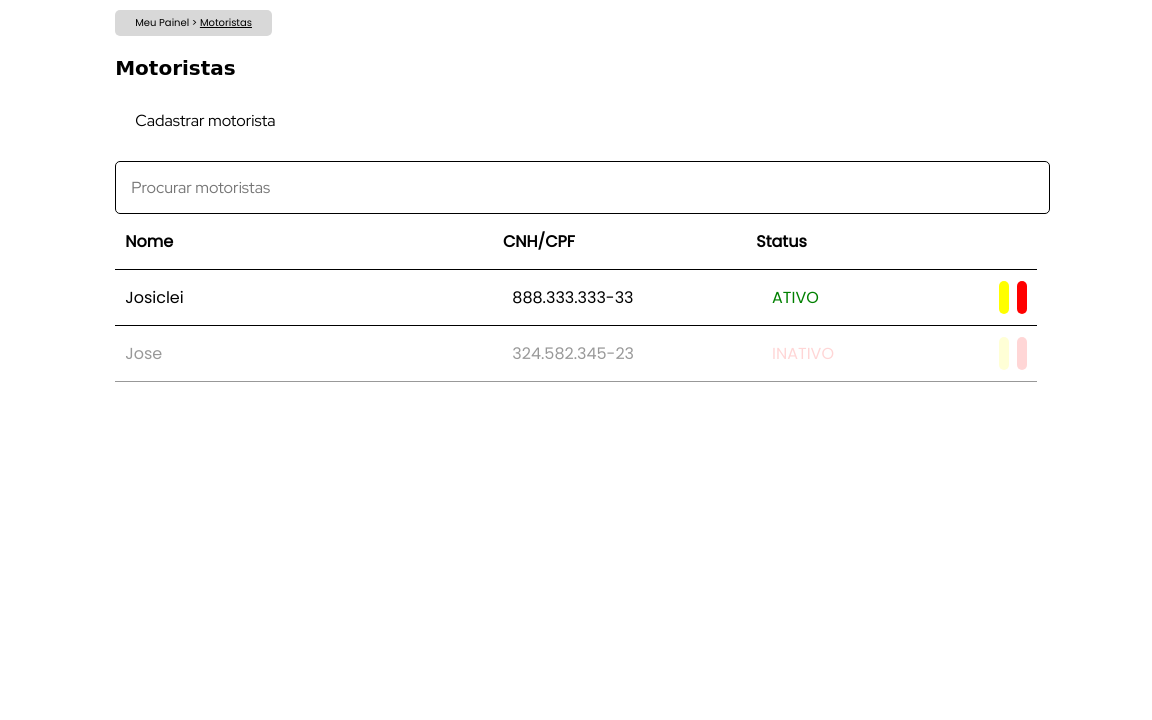
it: Drivers Page › should open DeleteDriverModal when delete button is clicked
Click the 2nd button titled "Deletar Motorista".
click(1022, 298)  # box [1017,285,1027,310]
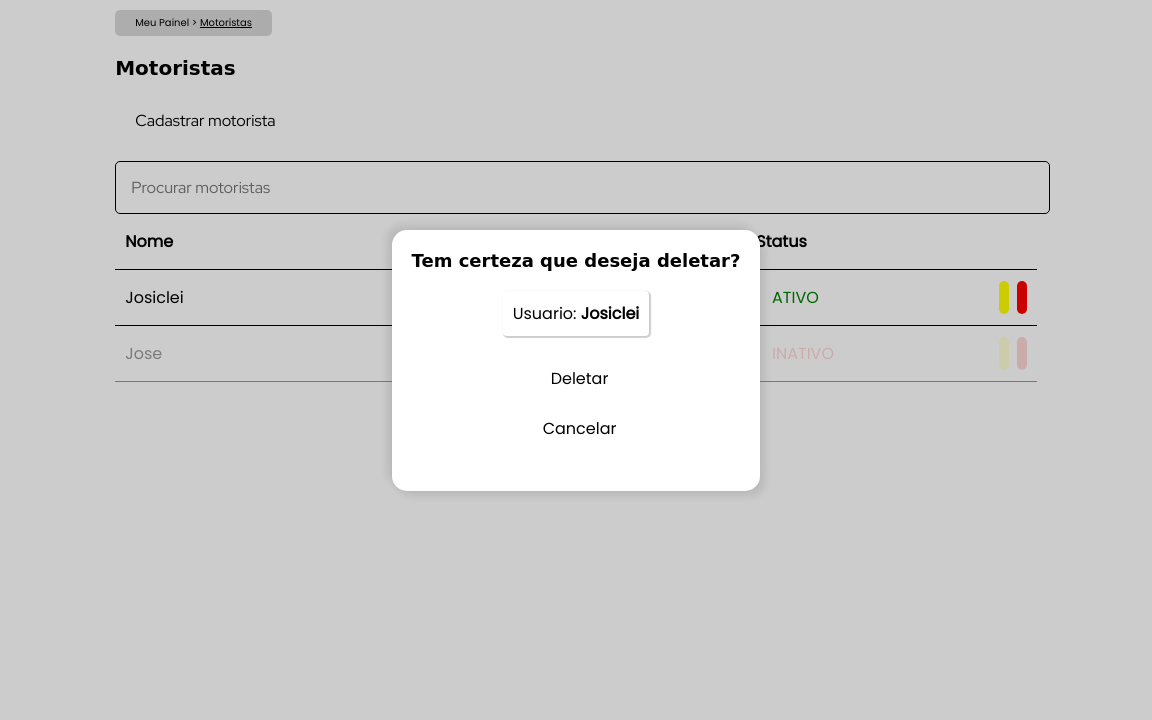
Expected: the heading "Tem certeza que deseja deletar?" is shown, [412,250,740,270]
